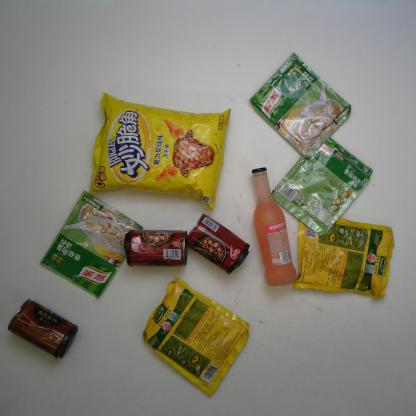Alcohol: (251, 167, 298, 289)
Canned Food: (7, 298, 79, 360), (185, 213, 250, 274), (123, 228, 189, 270)
Puffed Food: (90, 91, 231, 211)
Seasoner: (141, 277, 250, 396), (38, 188, 142, 298), (248, 52, 354, 159), (271, 134, 373, 237), (291, 212, 396, 298)
